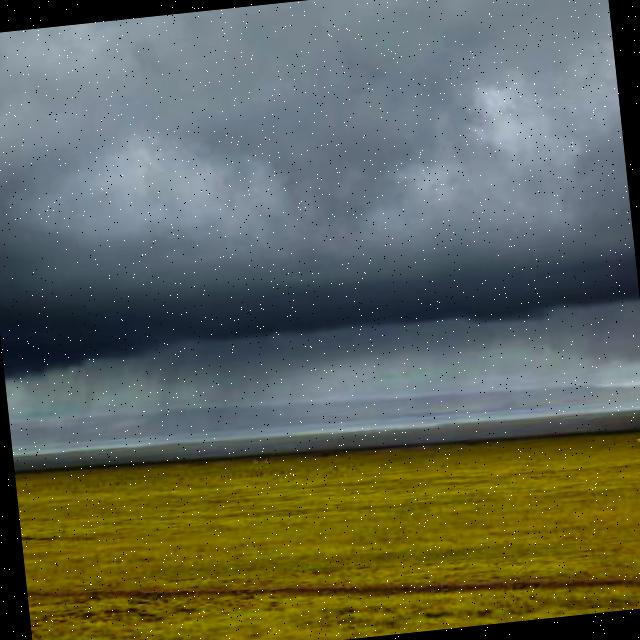Ns: (1, 1, 640, 389)
